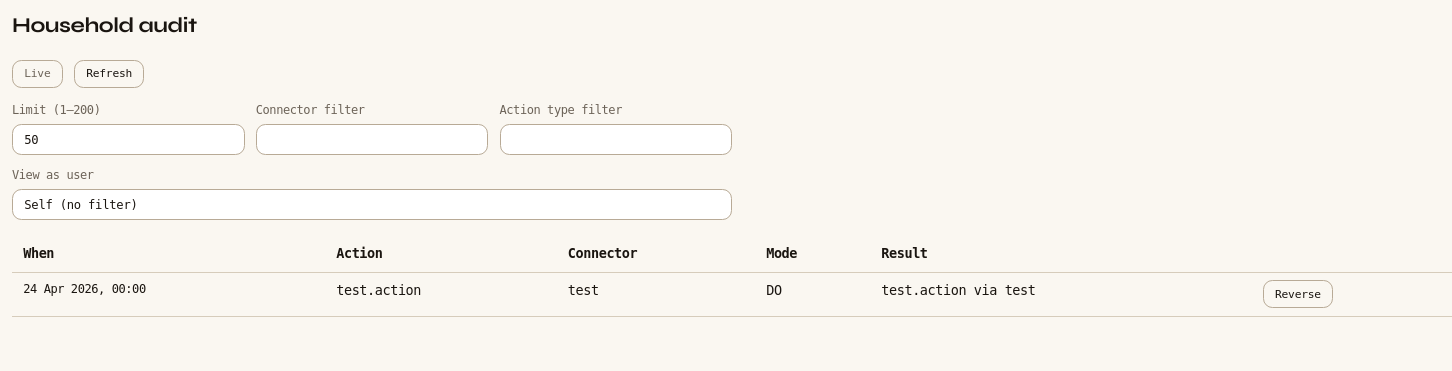
Test: AdminAuditView › keeps the audit row in place after retryable reverse_failed
This screenshot has width=1452, height=371.
Click the button "Reverse" at (1298, 294), box [1263, 280, 1333, 308]
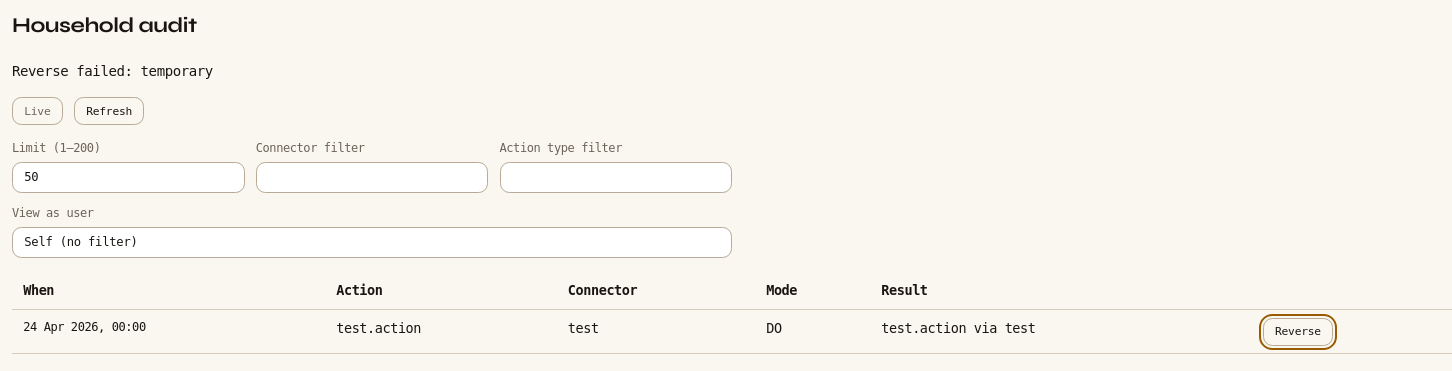
Expected: the button "Reverse" is shown, [1263, 318, 1333, 346]
Now the message reads "Reverse failed: temporary", box [12, 63, 213, 79]
